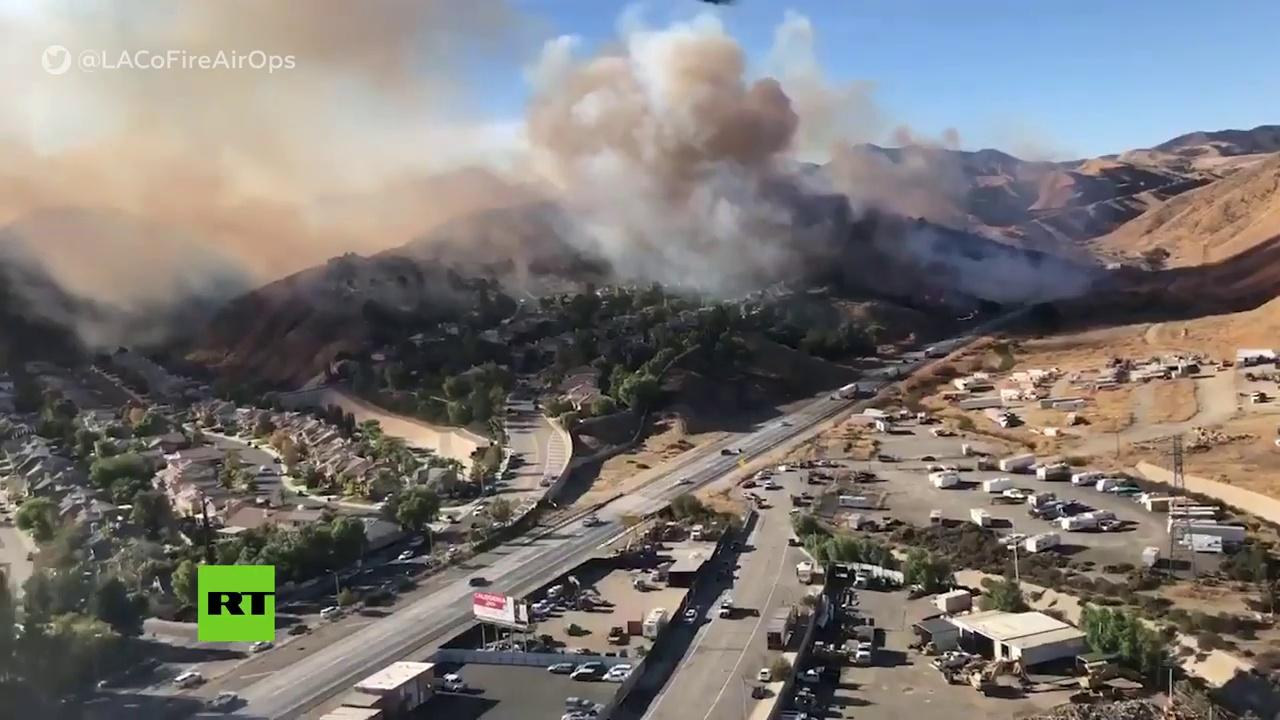smoke: (582, 82, 778, 260)
